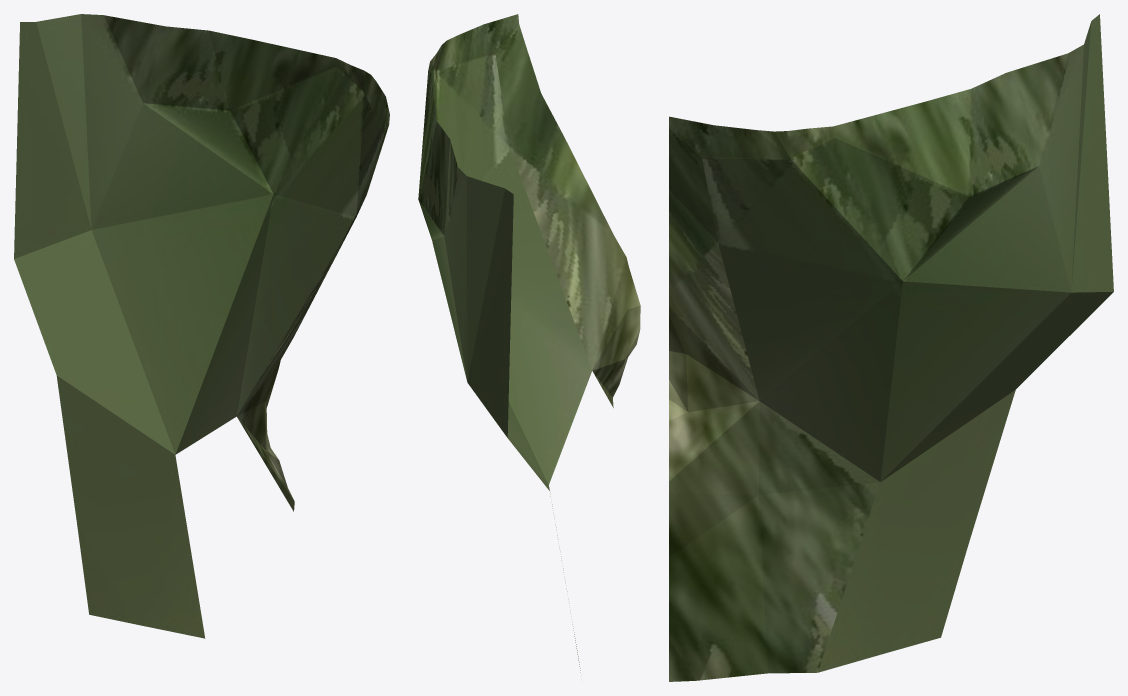
3 views of the same model, side by side, from view 1: azimuth 30°, elevation 25°; view 2: azimuth 150°, elevation 25°; view 3: azimuth 270°, elevation 25° (orthographic). The views are drawn at different scales.
Size of the model in its own units: 1.2 by 2.95 by 1.91.
2 materials, 2 textured.
